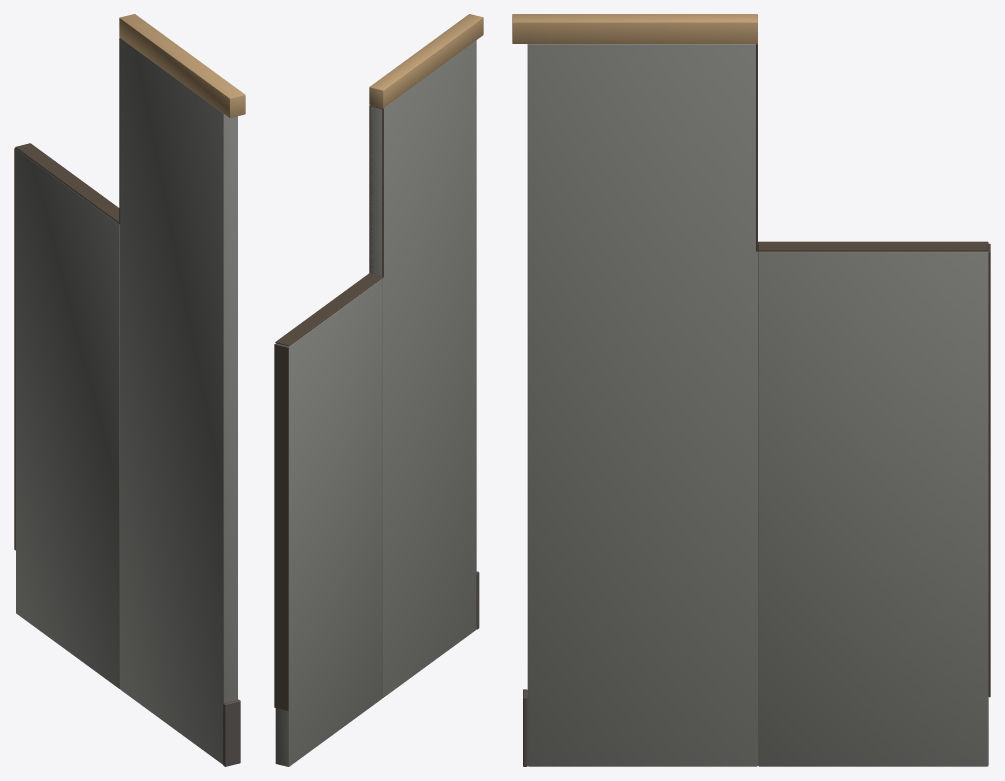
Rendered from Kit_StationCounter_End.fbx.
3 views of the same model, side by side, from view 1: azimuth 30°, elevation 25°; view 2: azimuth 150°, elevation 25°; view 3: azimuth 270°, elevation 25° (orthographic). The views are drawn at different scales.
Visible parts, largest first — view 1: Kit_StationCounter_End_LOD0; view 2: Kit_StationCounter_End_LOD0; view 3: Kit_StationCounter_End_LOD0.
Boxes of the visible parts, x1,y1,x2,y2 form: Kit_StationCounter_End_LOD0: (14,14,245,766); Kit_StationCounter_End_LOD0: (274,14,483,766); Kit_StationCounter_End_LOD0: (512,14,990,766).
Size of what is drawn, in the model's own units: 0.027 by 1.07 by 0.623.
